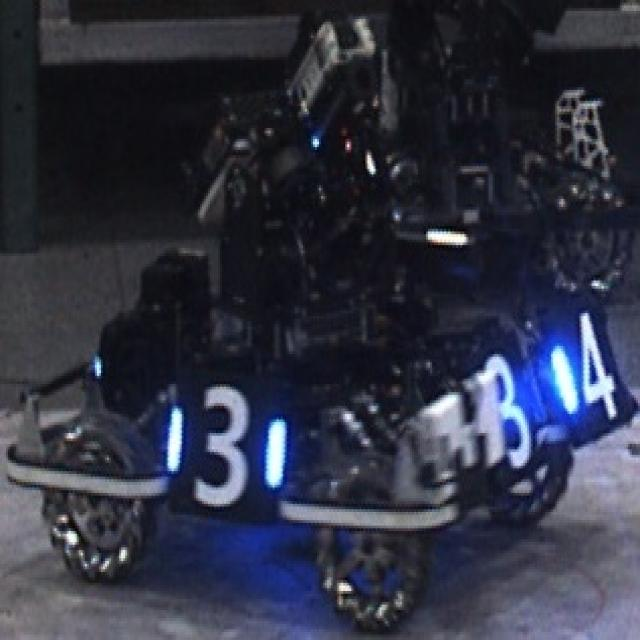B3: (163, 381, 284, 507)
B4: (549, 302, 634, 441)
